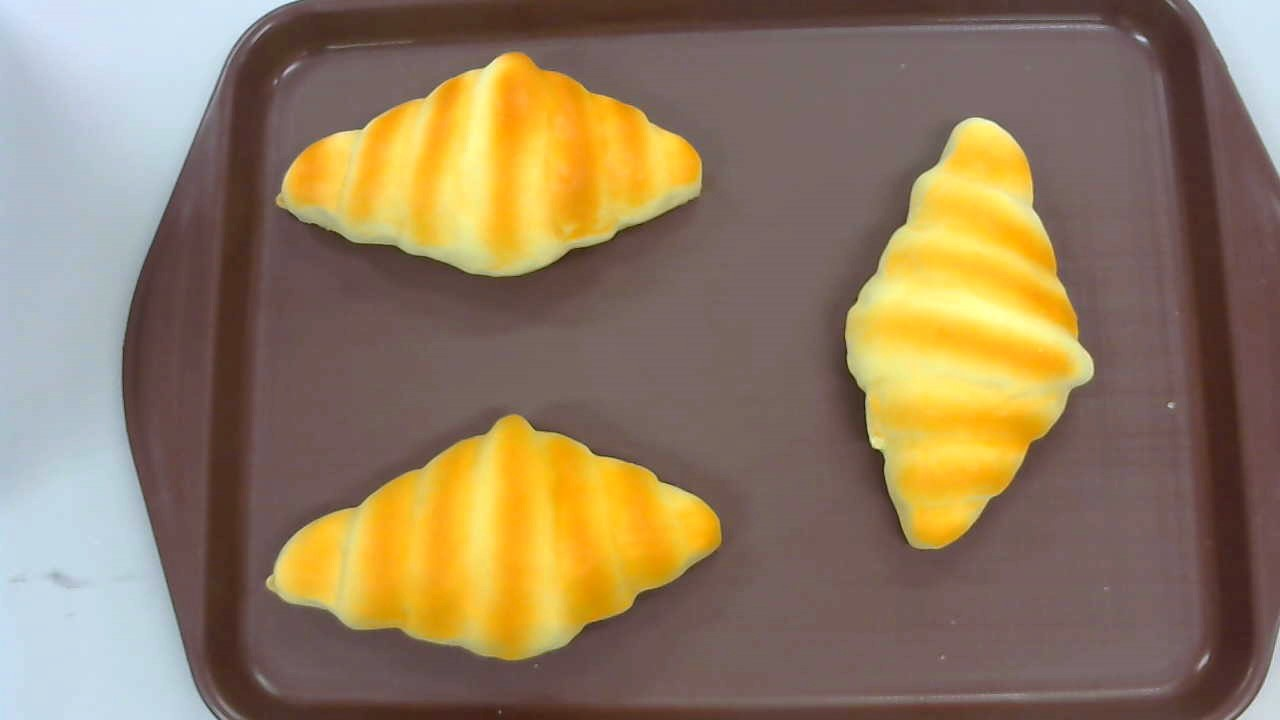croissant: (266, 411, 724, 662), (843, 117, 1095, 551), (277, 53, 703, 278)
